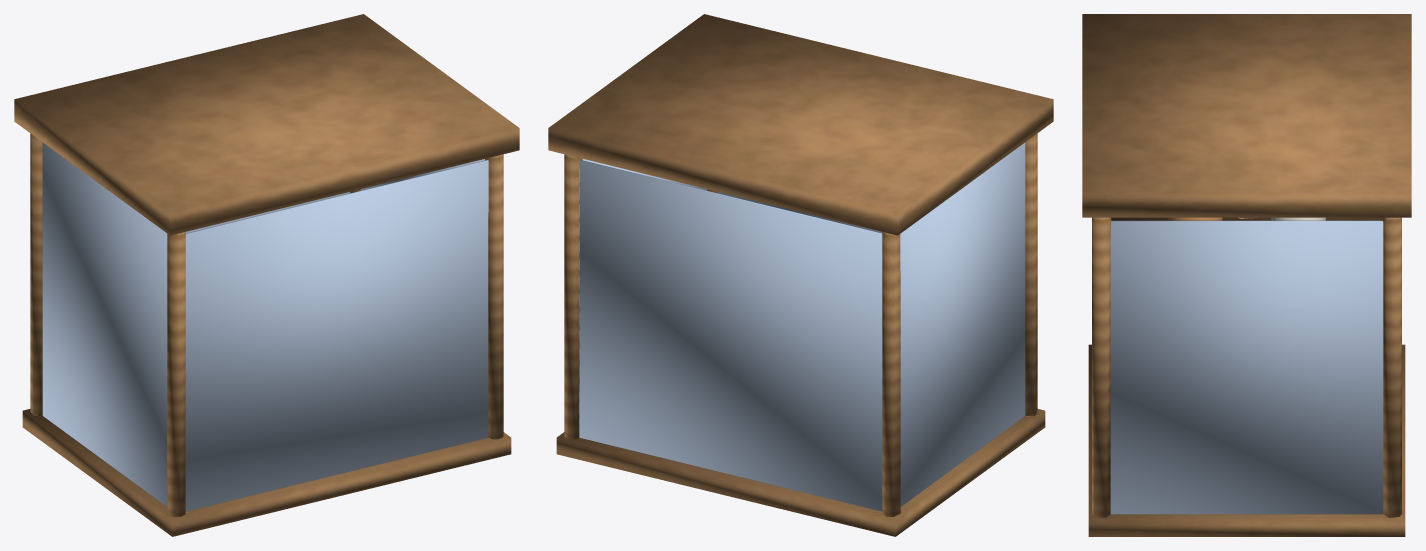
Rendered from bun_case.glb.
The picture shows the model from 3 angles, left to right: view 1: azimuth 30°, elevation 25°; view 2: azimuth 150°, elevation 25°; view 3: azimuth 270°, elevation 25°; orthographic projection. The views are drawn at different scales.
Visible parts, largest first — view 1: prop_bun_case_glass, prop_bun_case_wood; view 2: prop_bun_case_glass, prop_bun_case_wood; view 3: prop_bun_case_wood, prop_bun_case_glass, prop_bun_case_felt.
Part boxes in pixels (bbox=[...]): prop_bun_case_glass: bbox=[42, 142, 488, 511]; prop_bun_case_wood: bbox=[14, 14, 519, 536]; prop_bun_case_glass: bbox=[579, 142, 1025, 511]; prop_bun_case_wood: bbox=[548, 14, 1053, 536]; prop_bun_case_wood: bbox=[1082, 14, 1411, 536]; prop_bun_case_glass: bbox=[1110, 220, 1383, 514]; prop_bun_case_felt: bbox=[1168, 217, 1325, 220].
Size of the model in its own units: 0.99 by 0.885 by 0.765.
4 materials, 3 textured.
